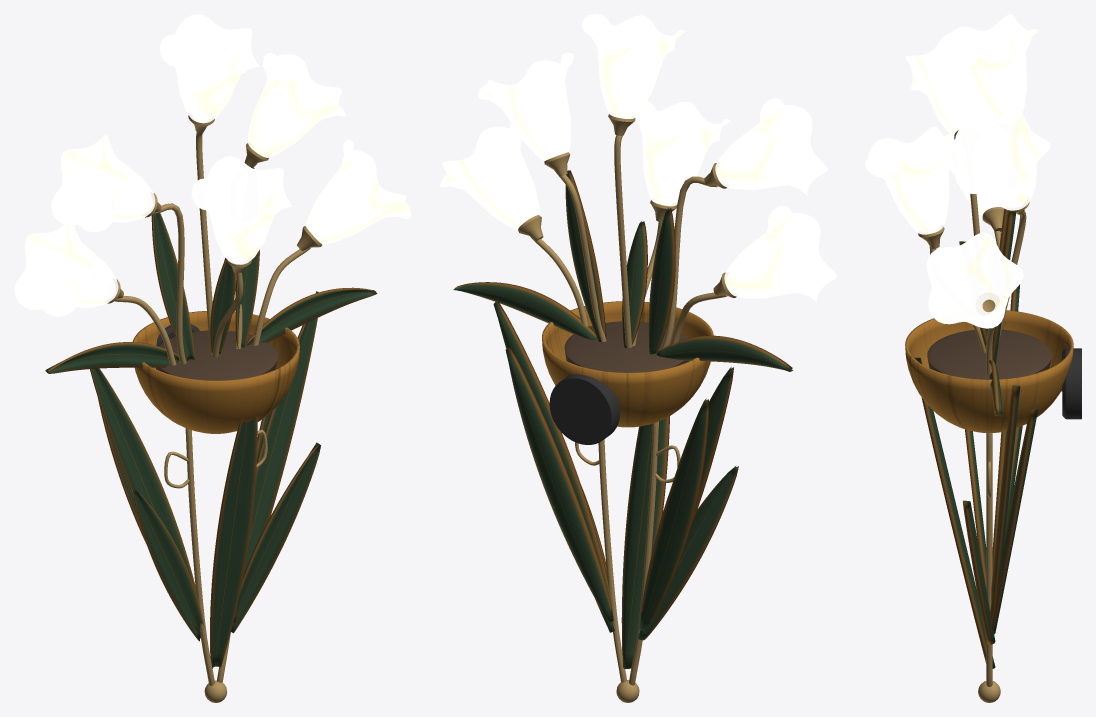
The model's file is bouquet-flowers-leaves-white-light-pastoral-american-style.glb.
3 views of the same model, side by side, from view 1: azimuth 30°, elevation 25°; view 2: azimuth 150°, elevation 25°; view 3: azimuth 270°, elevation 25° (orthographic). The views are drawn at different scales.
Visible parts, largest first — view 1: Bowl, LeafLow0, I_flower__004, I_flower__001, I_flower__000, I_flower__003, I_flower__002, I_flower__005, LeafLow4, LeafLow1, LeafLow6, BowlHub (+13 smaller); view 2: Bowl, I_flower__000, I_flower__003, I_flower__001, LeafLow5, I_flower__005, I_flower__004, I_flower__002, LeafLow0, LeafLow2, Canopy, BowlHub (+14 smaller); view 3: Bowl, I_flower__002, I_flower__005, I_flower__004, I_flower__001, BowlHub, I_flower__000, LeafLow0, LeafLow4, LeafLow5, LeafLow6, RodR (+10 smaller).
Part boxes in pixels (left/top/right/bottom): Bowl: left=132, top=311, right=299, bottom=433; LeafLow0: left=210, top=416, right=257, bottom=668; I_flower__004: left=191, top=156, right=291, bottom=264; I_flower__001: left=159, top=14, right=258, bottom=123; I_flower__000: left=51, top=135, right=155, bottom=232; I_flower__003: left=14, top=224, right=118, bottom=316; I_flower__002: left=248, top=52, right=345, bottom=157; I_flower__005: left=305, top=139, right=411, bottom=244; LeafLow4: left=233, top=291, right=318, bottom=622; LeafLow1: left=90, top=368, right=197, bottom=631; LeafLow6: left=231, top=442, right=320, bottom=633; BowlHub: left=156, top=330, right=277, bottom=380; Bowl: left=542, top=301, right=713, bottom=427; I_flower__000: left=715, top=98, right=827, bottom=195; I_flower__003: left=724, top=205, right=836, bottom=302; I_flower__001: left=582, top=14, right=684, bottom=118; LeafLow5: left=505, top=347, right=611, bottom=621; I_flower__005: left=440, top=123, right=539, bottom=229; I_flower__004: left=635, top=101, right=730, bottom=206; I_flower__002: left=478, top=52, right=573, bottom=161; LeafLow0: left=621, top=323, right=669, bottom=668; LeafLow2: left=639, top=398, right=708, bottom=630; Canopy: left=549, top=374, right=620, bottom=444; BowlHub: left=564, top=321, right=688, bottom=372; Bowl: left=905, top=310, right=1073, bottom=432; I_flower__002: left=954, top=110, right=1050, bottom=210; I_flower__005: left=926, top=232, right=1023, bottom=328; I_flower__004: left=865, top=126, right=954, bottom=234; I_flower__001: left=942, top=14, right=1038, bottom=120; BowlHub: left=927, top=329, right=1051, bottom=379; I_flower__000: left=905, top=32, right=986, bottom=137; LeafLow0: left=914, top=357, right=995, bottom=668; LeafLow4: left=990, top=385, right=1020, bottom=620; LeafLow5: left=991, top=408, right=1037, bottom=633; LeafLow6: left=962, top=500, right=995, bottom=644; RodR: left=986, top=433, right=992, bottom=686.
Bounding box in the file's own units: 0.3115 × 0.5305 × 0.1549.
Materials: 6 (5 with a texture image).
